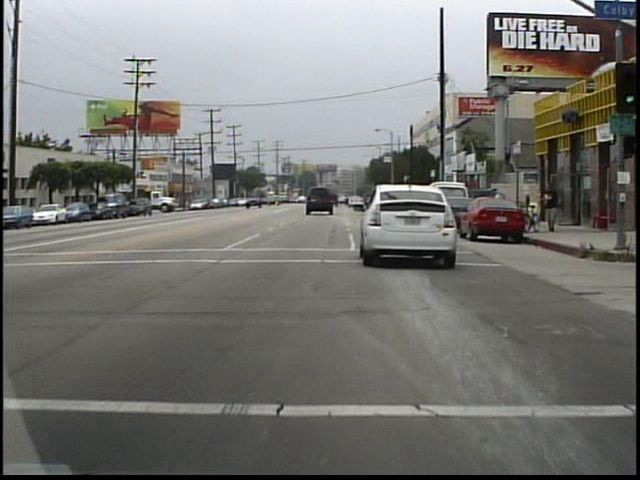person: (540, 176, 563, 236)
